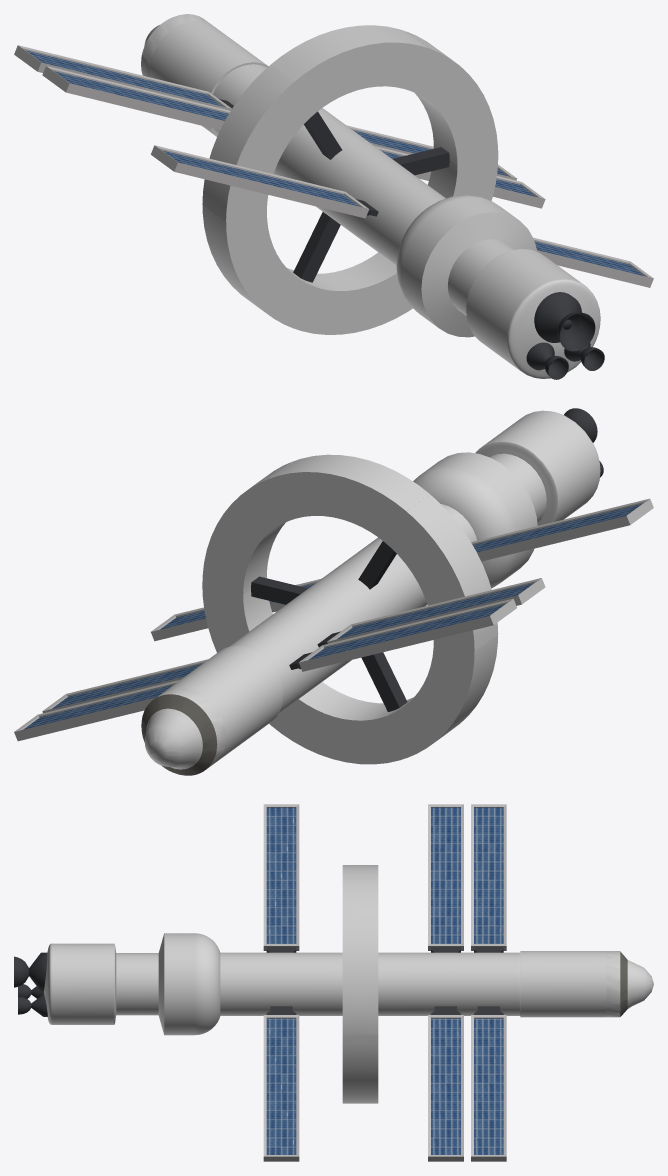
The model's file is Stem2WebsiteModel-v2.glb.
3 renders of one model, top to bottom at view 1: azimuth 30°, elevation 25°; view 2: azimuth 150°, elevation 25°; view 3: azimuth 270°, elevation 25°, orthographic. The views are drawn at different scales.
Parts seen in each view (by area): view 1: Body Back.001, Body Back, Centrifuge.002, Centrifuge.001, Centrifuge.006, Centrifuge.003, Centrifuge.005, Body Front, Solar Panel Back.001, Solar Panel Front.001, Solar Panel Front.002, Throttle Main (+10 smaller); view 2: Body Back.001, Body Back, Centrifuge.002, Centrifuge.001, Centrifuge.005, Centrifuge.006, Centrifuge.003, Body Front, Body Front.001, Solar Panel Front.002, Solar Panel Back.001, Solar Panel Front.001 (+8 smaller); view 3: Body Back, Body Back.001, Body Front, Solar Panel Back, Solar Panel Front.003, Solar Panel Front, Solar Panel Back.001, Solar Panel Front.002, Solar Panel Front.001, Centrifuge.003, Centrifuge.004, Body Front.001 (+2 smaller).
Boxes of the visible parts, bbox=[...] form: Body Back.001: bbox=[396, 195, 600, 378]; Body Back: bbox=[213, 64, 445, 265]; Centrifuge.002: bbox=[270, 25, 429, 113]; Centrifuge.001: bbox=[202, 65, 314, 221]; Centrifuge.006: bbox=[202, 205, 314, 328]; Centrifuge.003: bbox=[407, 32, 498, 165]; Centrifuge.005: bbox=[291, 252, 412, 334]; Body Front: bbox=[150, 20, 268, 136]; Solar Panel Back.001: bbox=[151, 145, 378, 218]; Solar Panel Front.001: bbox=[42, 66, 230, 129]; Solar Panel Front.002: bbox=[14, 45, 233, 110]; Throttle Main: bbox=[534, 292, 595, 351]; Body Back.001: bbox=[413, 410, 600, 588]; Body Back: bbox=[229, 504, 476, 712]; Centrifuge.002: bbox=[270, 454, 429, 542]; Centrifuge.001: bbox=[386, 494, 498, 651]; Centrifuge.005: bbox=[270, 682, 408, 764]; Centrifuge.006: bbox=[386, 634, 497, 757]; Centrifuge.003: bbox=[202, 461, 293, 594]; Body Front: bbox=[165, 646, 282, 761]; Body Front.001: bbox=[141, 687, 225, 775]; Solar Panel Front.002: bbox=[289, 598, 516, 671]; Solar Panel Back.001: bbox=[471, 498, 653, 561]; Solar Panel Front.001: bbox=[317, 578, 545, 647]; Body Back: bbox=[220, 952, 520, 1015]; Body Back.001: bbox=[44, 933, 220, 1035]; Body Front: bbox=[520, 951, 606, 1017]; Solar Panel Back: bbox=[263, 1006, 299, 1161]; Solar Panel Front.003: bbox=[428, 1006, 463, 1161]; Solar Panel Front: bbox=[471, 1006, 506, 1161]; Solar Panel Back.001: bbox=[263, 804, 299, 952]; Solar Panel Front.002: bbox=[471, 804, 506, 952]; Solar Panel Front.001: bbox=[428, 804, 463, 952]; Centrifuge.003: bbox=[342, 916, 378, 1034]; Centrifuge.004: bbox=[342, 1034, 378, 1102]; Body Front.001: bbox=[606, 951, 653, 1017].
Size of the model in its own units: 35.23 by 19.99 by 53.65.
6 materials, 4 textured.
